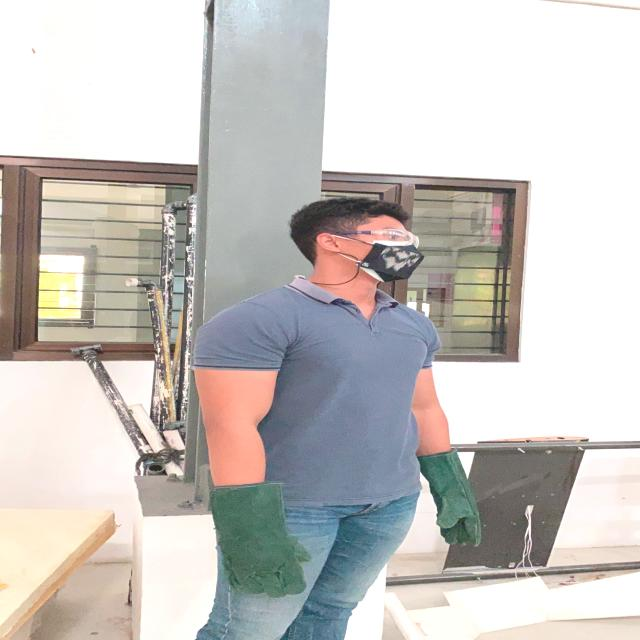face_mask: (352, 225, 430, 279)
glasses: (323, 225, 423, 250)
hand_glove: (195, 476, 325, 601), (408, 449, 492, 550)
head_nohelmet: (287, 194, 413, 232)
person: (190, 192, 502, 640)
